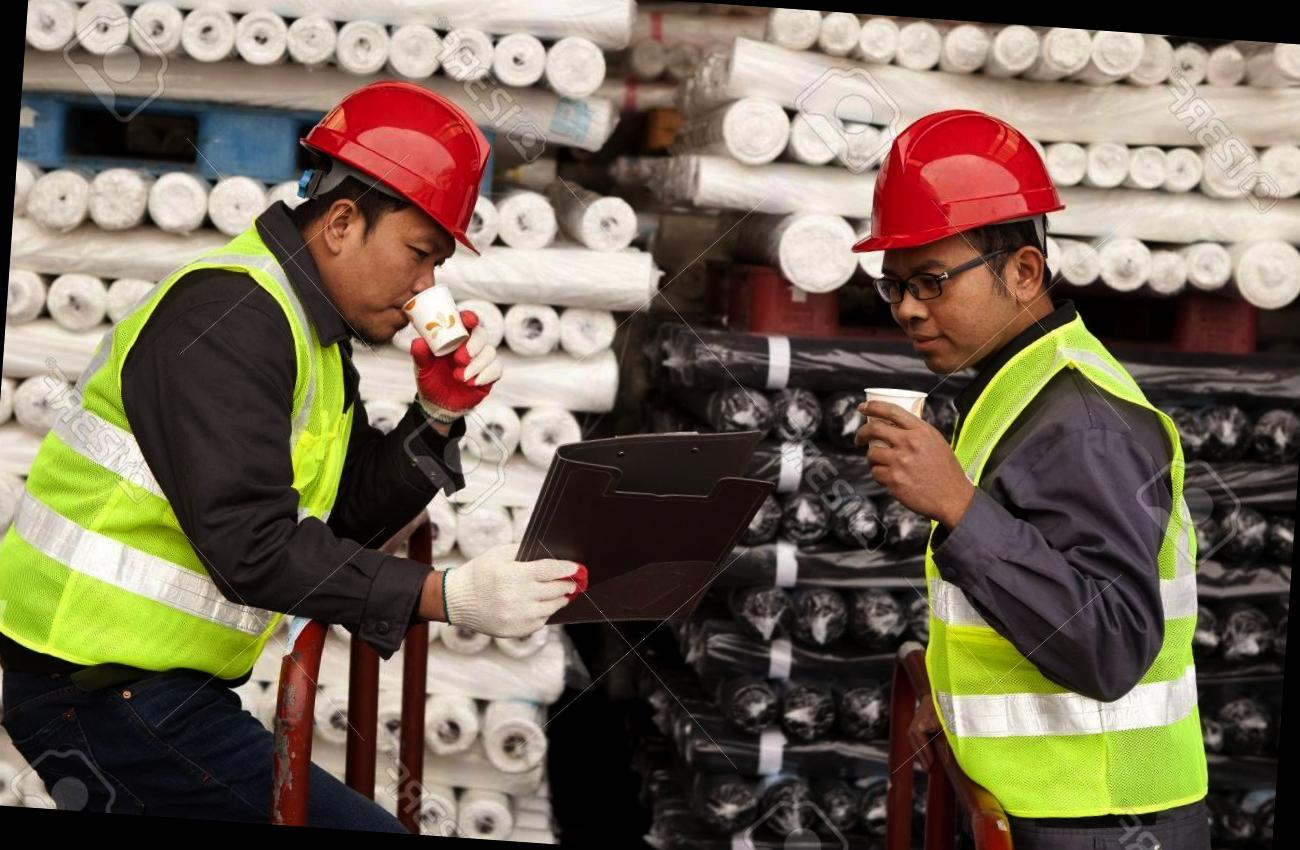helmet: (840, 96, 1072, 280), (282, 78, 497, 270)
person: (0, 62, 505, 837), (799, 100, 1254, 850)
